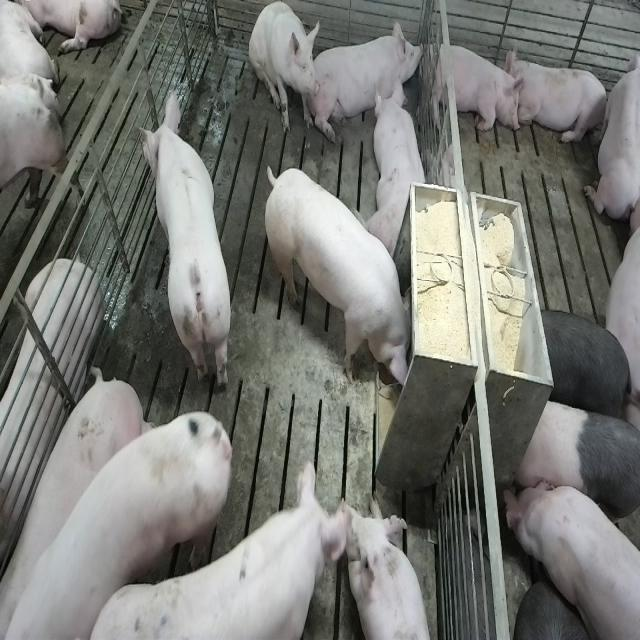Feeding: (269, 165, 421, 394)
Lateral_lying: (0, 257, 102, 586)
Sitting: (249, 2, 319, 136)
Standing: (4, 385, 240, 640), (111, 454, 361, 638), (138, 83, 233, 389), (502, 474, 638, 640), (511, 398, 638, 550), (536, 303, 638, 428)
Sternal_lying: (314, 13, 424, 136), (346, 494, 434, 640), (370, 81, 430, 261), (425, 36, 524, 138), (584, 38, 638, 225), (509, 52, 610, 150)
